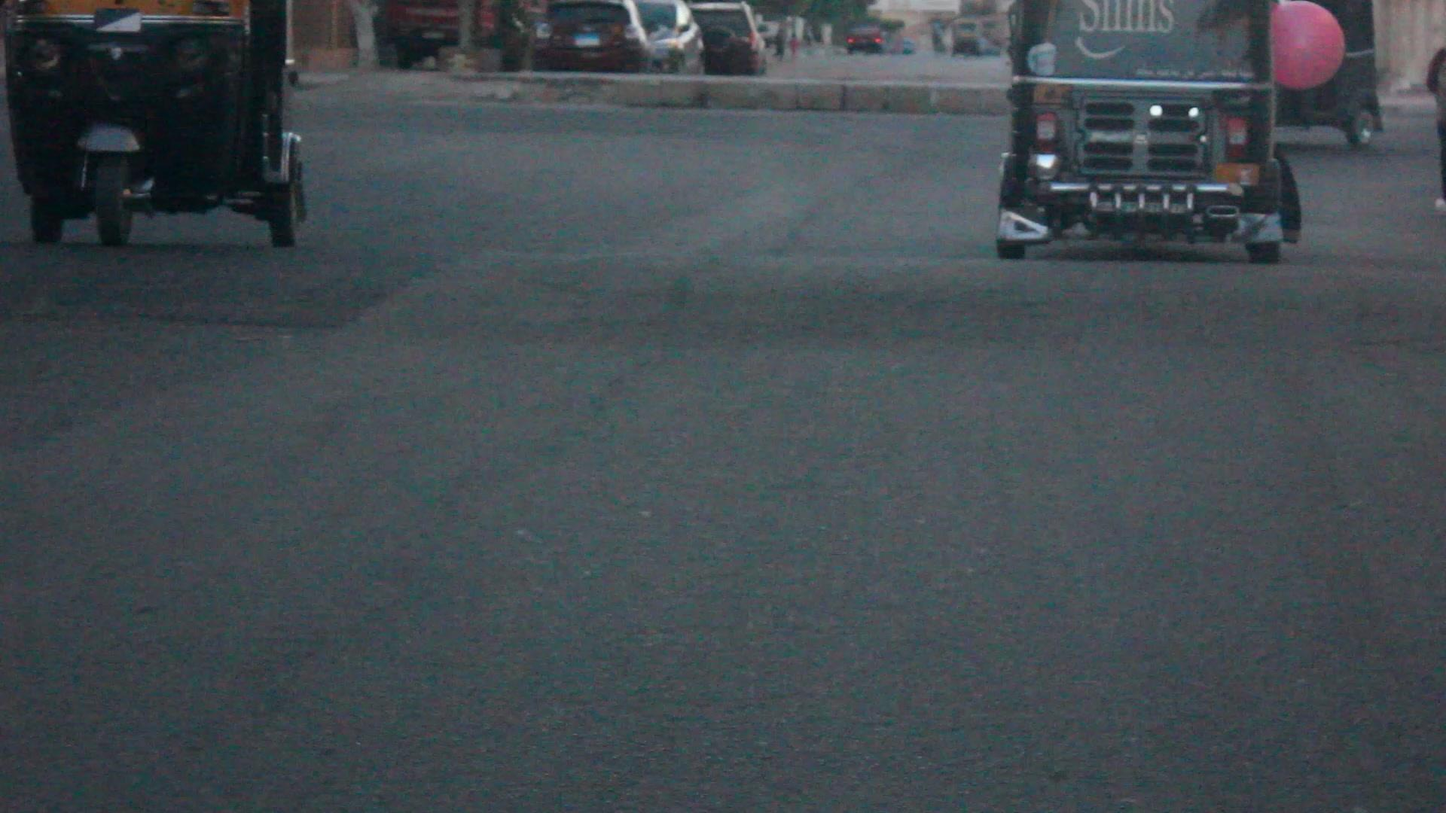Bump: (30, 231, 1446, 395)
